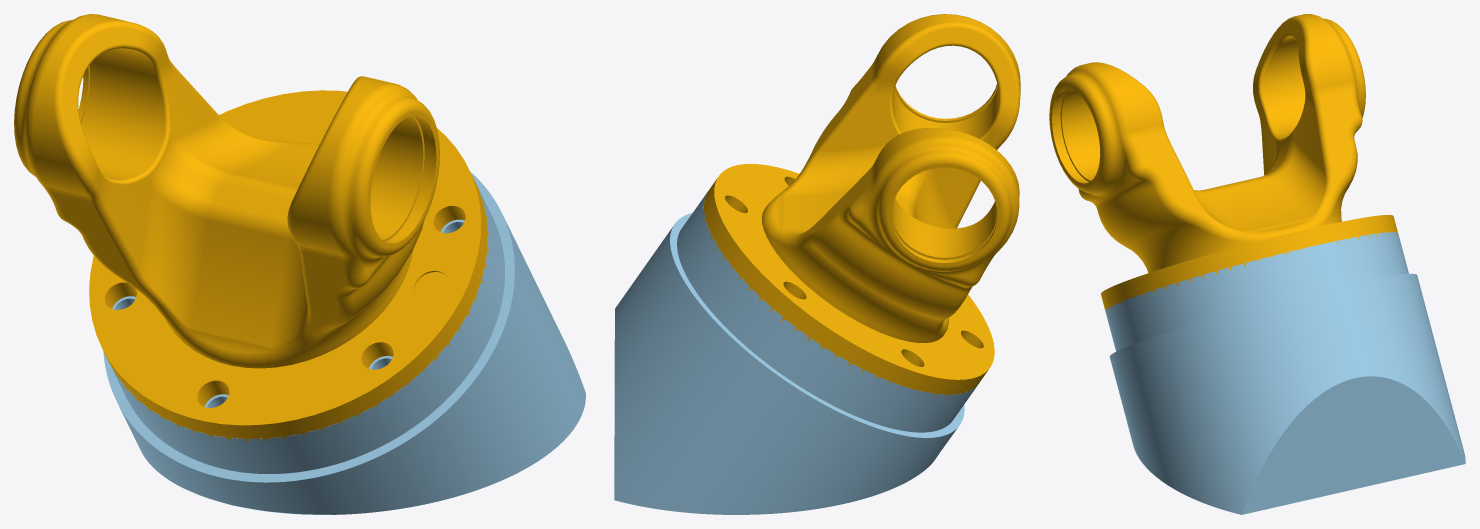
Rendered from cardan_bas2_2.dae.
The picture shows the model from 3 angles, left to right: view 1: azimuth 30°, elevation 25°; view 2: azimuth 150°, elevation 25°; view 3: azimuth 270°, elevation 25°; orthographic projection. The views are drawn at different scales.
Visible parts, largest first — view 1: STD04_0300_Articulation MISTRAL 600_M600_8, STD04_0300_Articulation MISTRAL 600_M600_4_8; view 2: STD04_0300_Articulation MISTRAL 600_M600_8, STD04_0300_Articulation MISTRAL 600_M600_4_8; view 3: STD04_0300_Articulation MISTRAL 600_M600_4_8, STD04_0300_Articulation MISTRAL 600_M600_8.
Boxes of the visible parts, <box> form: STD04_0300_Articulation MISTRAL 600_M600_8: <box>14,14,489,441</box>; STD04_0300_Articulation MISTRAL 600_M600_4_8: <box>103,171,585,514</box>; STD04_0300_Articulation MISTRAL 600_M600_8: <box>703,14,1020,397</box>; STD04_0300_Articulation MISTRAL 600_M600_4_8: <box>614,193,977,514</box>; STD04_0300_Articulation MISTRAL 600_M600_4_8: <box>1105,232,1465,514</box>; STD04_0300_Articulation MISTRAL 600_M600_8: <box>1049,14,1397,310</box>.
Size of the model in its own units: 0.149 by 0.1373 by 0.1228.
